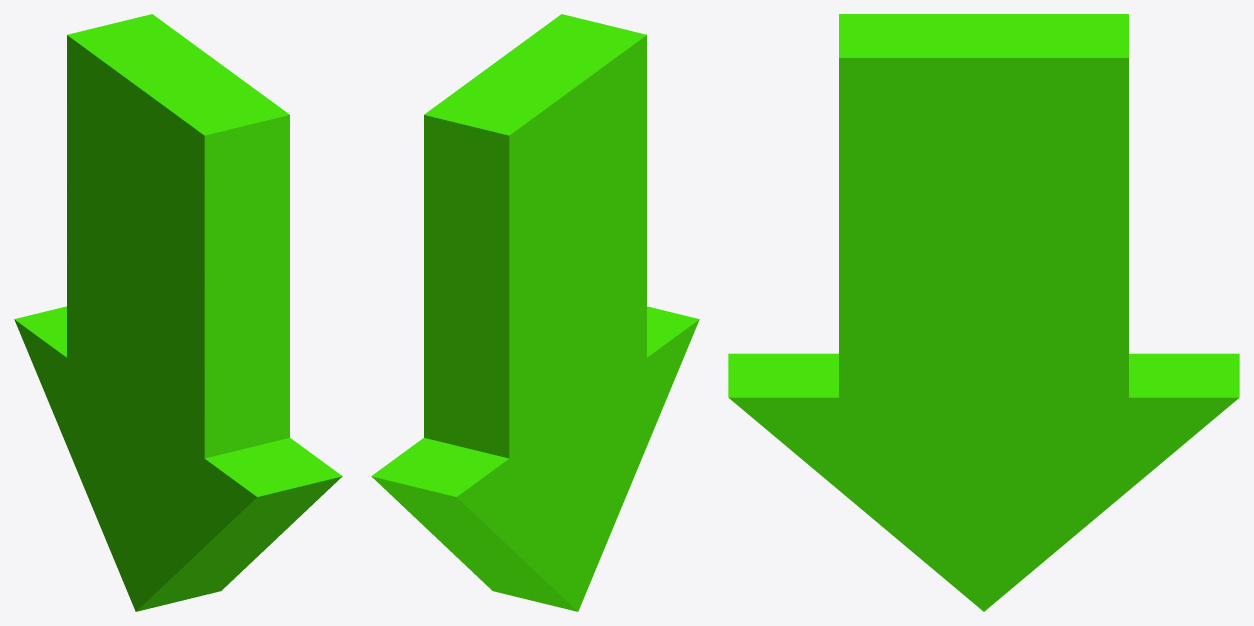
File: Arrow.fbx
3 renders of one model, left to right at view 1: azimuth 30°, elevation 25°; view 2: azimuth 150°, elevation 25°; view 3: azimuth 270°, elevation 25°, orthographic. The views are drawn at different scales.
Visible parts, largest first — view 1: Arrow; view 2: Arrow; view 3: Arrow.
Part boxes in pixels (<box>): Arrow: <box>14,14,342,611</box>; Arrow: <box>371,14,699,611</box>; Arrow: <box>728,14,1239,611</box>.
Size of the model in its own units: 8.8 by 51.81 by 43.34.
1 material, 1 textured.
